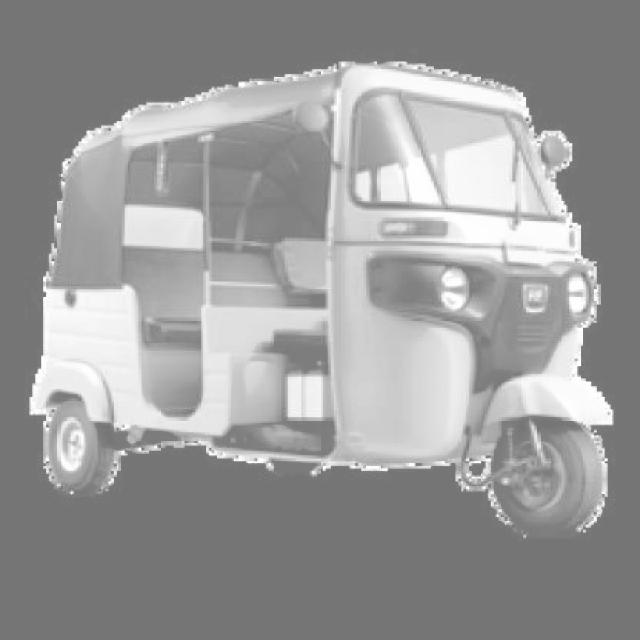Auto-Rickshaw: (31, 59, 616, 548)
